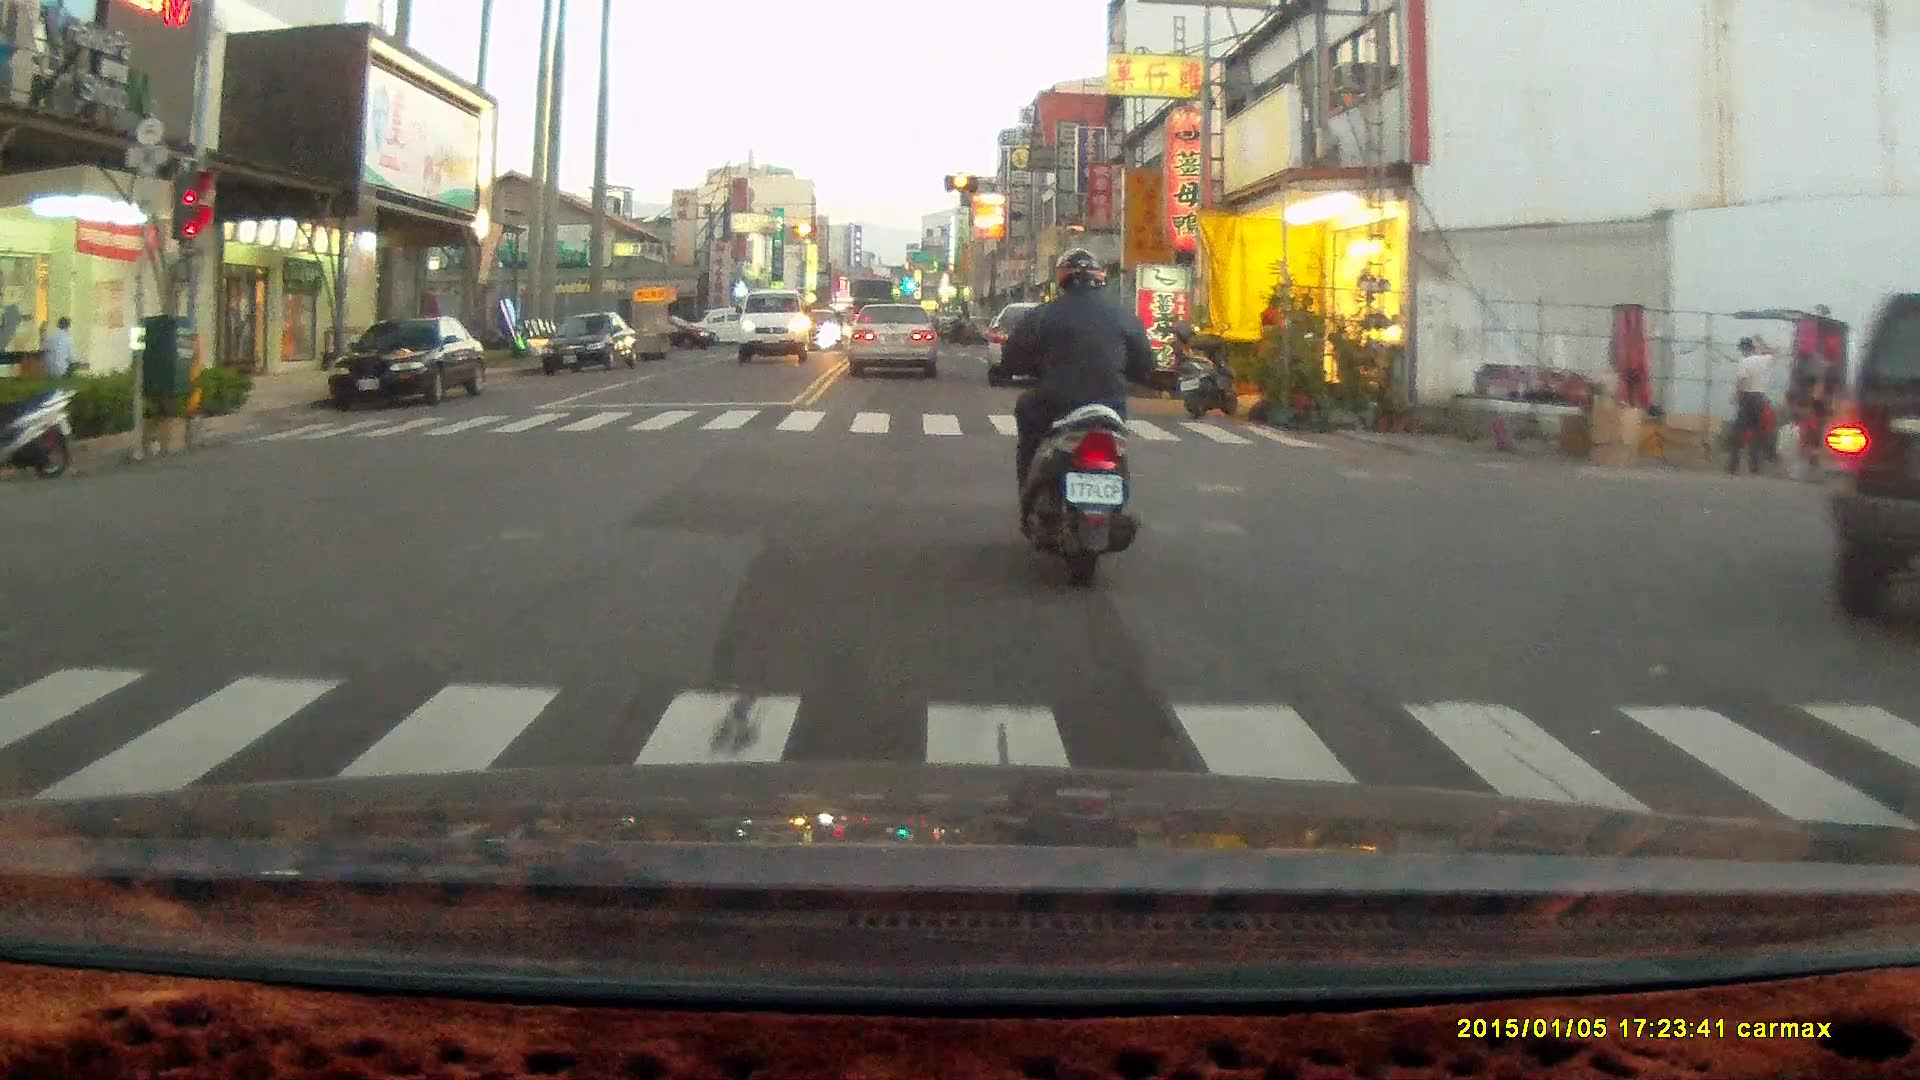pedestrian: (1724, 334, 1775, 477), (1254, 292, 1289, 409), (45, 315, 77, 391)
rider: (996, 247, 1153, 589)
vehicle: (1824, 281, 1920, 628), (324, 316, 485, 415), (849, 301, 940, 377), (543, 313, 639, 378), (738, 291, 811, 365)
